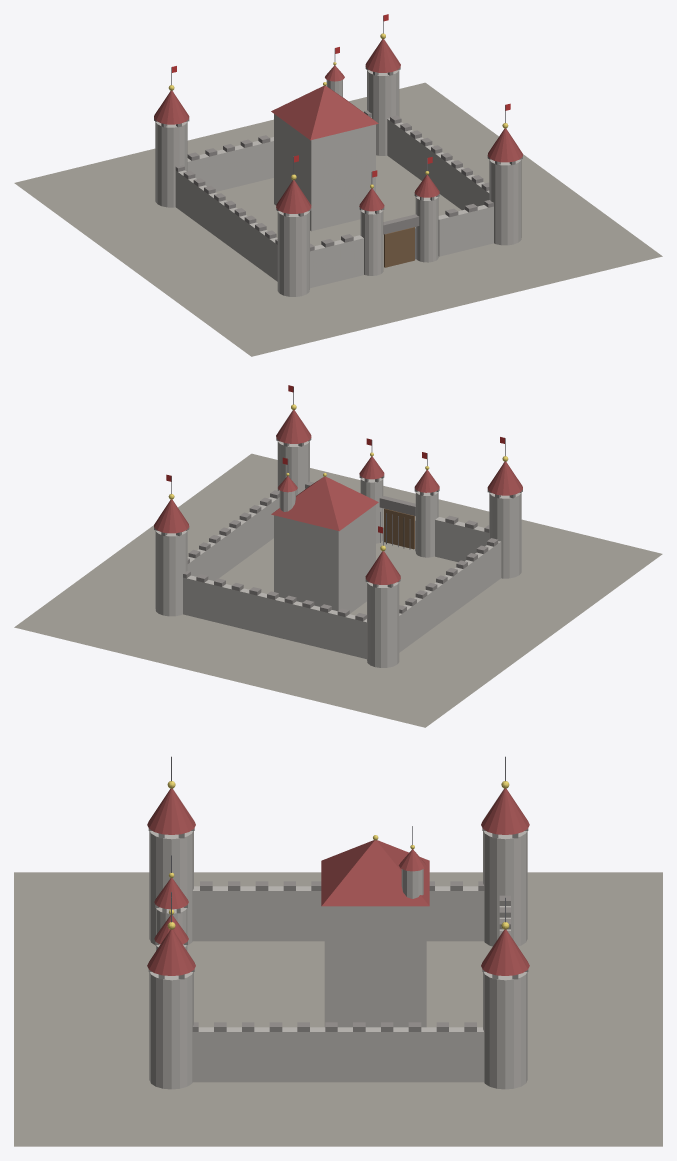
The model's file is Castle.glb.
3 renders of one model, top to bottom at view 1: azimuth 30°, elevation 25°; view 2: azimuth 150°, elevation 25°; view 3: azimuth 270°, elevation 25°, orthographic. The views are drawn at different scales.
Parts seen in each view (by area): view 1: Courtyard_Ground, Keep, Wall_West, Wall_East, CornerTower_SW, Wall_North, CornerTower_SE, CornerTower_NW, CornerTower_NE, Wall_Front_Right, Wall_Front_Left, GateHouse_TowerR (+2 smaller); view 2: Courtyard_Ground, Keep, Wall_North, Wall_West, Wall_East, CornerTower_NW, CornerTower_NE, CornerTower_SW, CornerTower_SE, Wall_Front_Left, GateHouse_TowerL, GateHouse_TowerR (+1 smaller); view 3: Courtyard_Ground, Keep, Wall_East, Wall_West, CornerTower_NE, CornerTower_SE, CornerTower_NW, CornerTower_SW, GateHouse_TowerL.
Part boxes in pixels (<box>): Courtyard_Ground: <box>14,82,662,356</box>; Keep: <box>271,62,378,231</box>; Wall_West: <box>175,165,277,281</box>; Wall_East: <box>387,115,489,210</box>; CornerTower_SW: <box>276,174,311,296</box>; Wall_North: <box>187,110,371,191</box>; CornerTower_SE: <box>487,123,522,245</box>; CornerTower_NW: <box>154,85,189,207</box>; CornerTower_NE: <box>365,33,400,155</box>; Wall_Front_Right: <box>438,200,493,256</box>; Wall_Front_Left: <box>310,234,363,288</box>; GateHouse_TowerR: <box>414,171,439,262</box>; Courtyard_Ground: <box>14,453,662,727</box>; Keep: <box>271,473,378,613</box>; Wall_North: <box>183,571,366,659</box>; Wall_West: <box>399,538,501,652</box>; Wall_East: <box>187,490,279,580</box>; CornerTower_NW: <box>365,545,400,667</box>; CornerTower_NE: <box>154,494,189,616</box>; CornerTower_SW: <box>487,456,522,578</box>; CornerTower_SE: <box>276,404,311,495</box>; Wall_Front_Left: <box>435,515,489,561</box>; GateHouse_TowerL: <box>414,466,439,557</box>; GateHouse_TowerR: <box>359,452,384,543</box>; Courtyard_Ground: <box>14,872,662,1146</box>; Keep: <box>321,835,429,1027</box>; Wall_East: <box>192,1022,484,1082</box>; Wall_West: <box>192,881,484,941</box>; CornerTower_NE: <box>481,922,529,1089</box>; CornerTower_SE: <box>147,922,195,1089</box>; CornerTower_NW: <box>481,781,529,946</box>; CornerTower_SW: <box>147,781,195,945</box>; GateHouse_TowerL: <box>154,872,188,934</box>.
Size of the model in its own units: 70 by 23.75 by 70.
